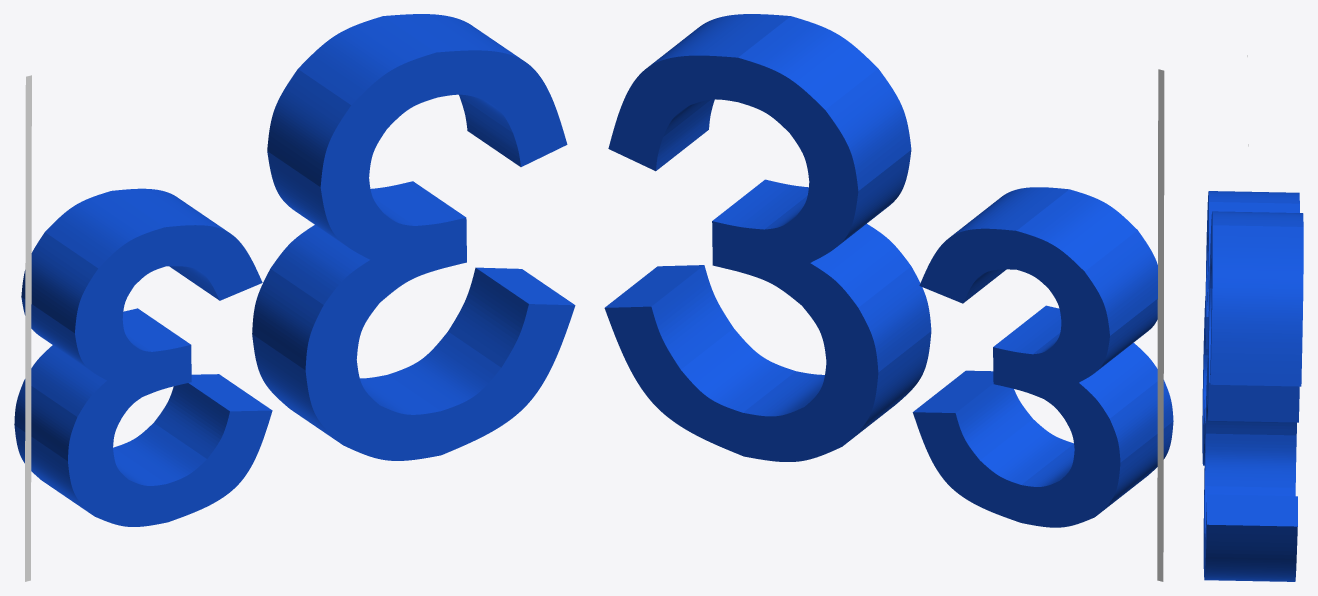
3 views of the same model, side by side, from view 1: azimuth 30°, elevation 25°; view 2: azimuth 150°, elevation 25°; view 3: azimuth 270°, elevation 25° (orthographic). The views are drawn at different scales.
Visible parts, largest first — view 1: Mesh_0.010, Плоскость; view 2: Mesh_0.010, Плоскость; view 3: Mesh_0.010.
Part boxes in pixels (x1,y1,x2,y2): Mesh_0.010: (14, 14, 575, 526); Плоскость: (25, 75, 31, 581); Mesh_0.010: (604, 14, 1173, 527); Плоскость: (1157, 69, 1164, 581); Mesh_0.010: (1202, 191, 1303, 581).
Bounding box in the file's own units: 10.21 × 9.38 × 1.99.
